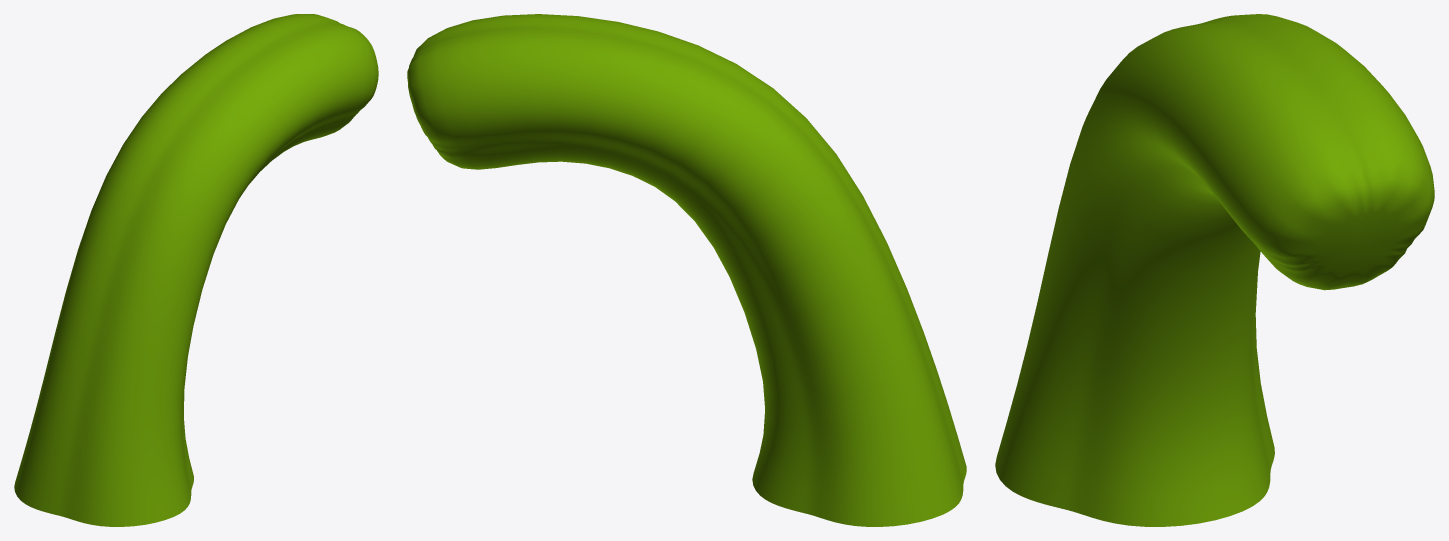
File: green_pepper_nob.fbx
3 renders of one model, left to right at view 1: azimuth 30°, elevation 25°; view 2: azimuth 150°, elevation 25°; view 3: azimuth 270°, elevation 25°, orthographic. The views are drawn at different scales.
Visible parts, largest first — view 1: greenPepper; view 2: greenPepper; view 3: greenPepper.
Boxes of the visible parts, bbox=[...] form: greenPepper: bbox=[14, 14, 378, 526]; greenPepper: bbox=[407, 14, 966, 526]; greenPepper: bbox=[995, 14, 1434, 526].
Size of the model in its own units: 89.96 by 78.64 by 55.4.
